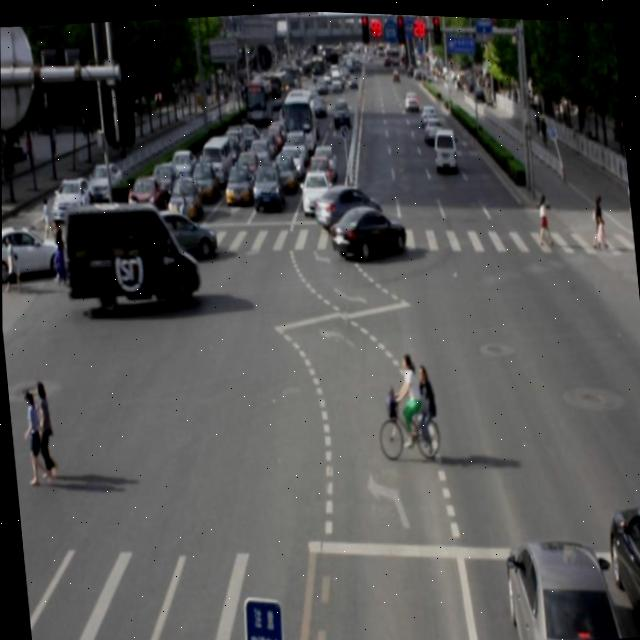car: (502, 523, 622, 640), (327, 196, 405, 262), (603, 495, 640, 634), (132, 201, 217, 261), (313, 177, 383, 237)
truck: (57, 191, 201, 317)
